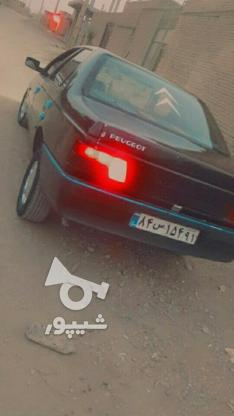car: (128, 210, 199, 247)
